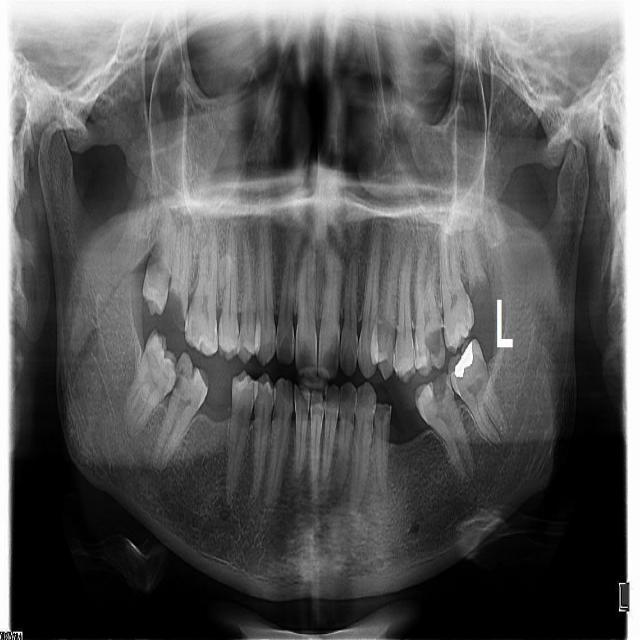72: (460, 220, 488, 292)
NucleOSS Implant: (449, 340, 482, 381)
Sterngold Implant: (162, 285, 190, 332), (423, 321, 446, 369), (425, 370, 458, 403), (462, 271, 494, 303), (173, 356, 192, 395), (373, 402, 391, 421), (188, 318, 200, 341)
